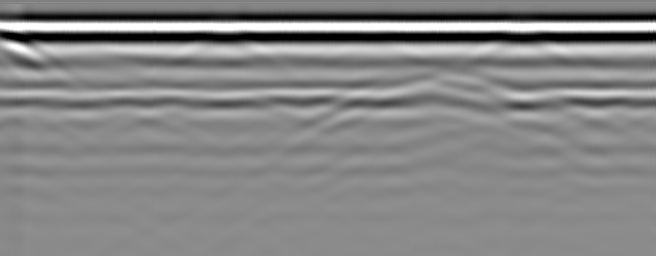pipe: (1, 27, 32, 49)
